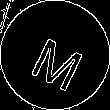M_NE: (23, 22, 87, 88)
